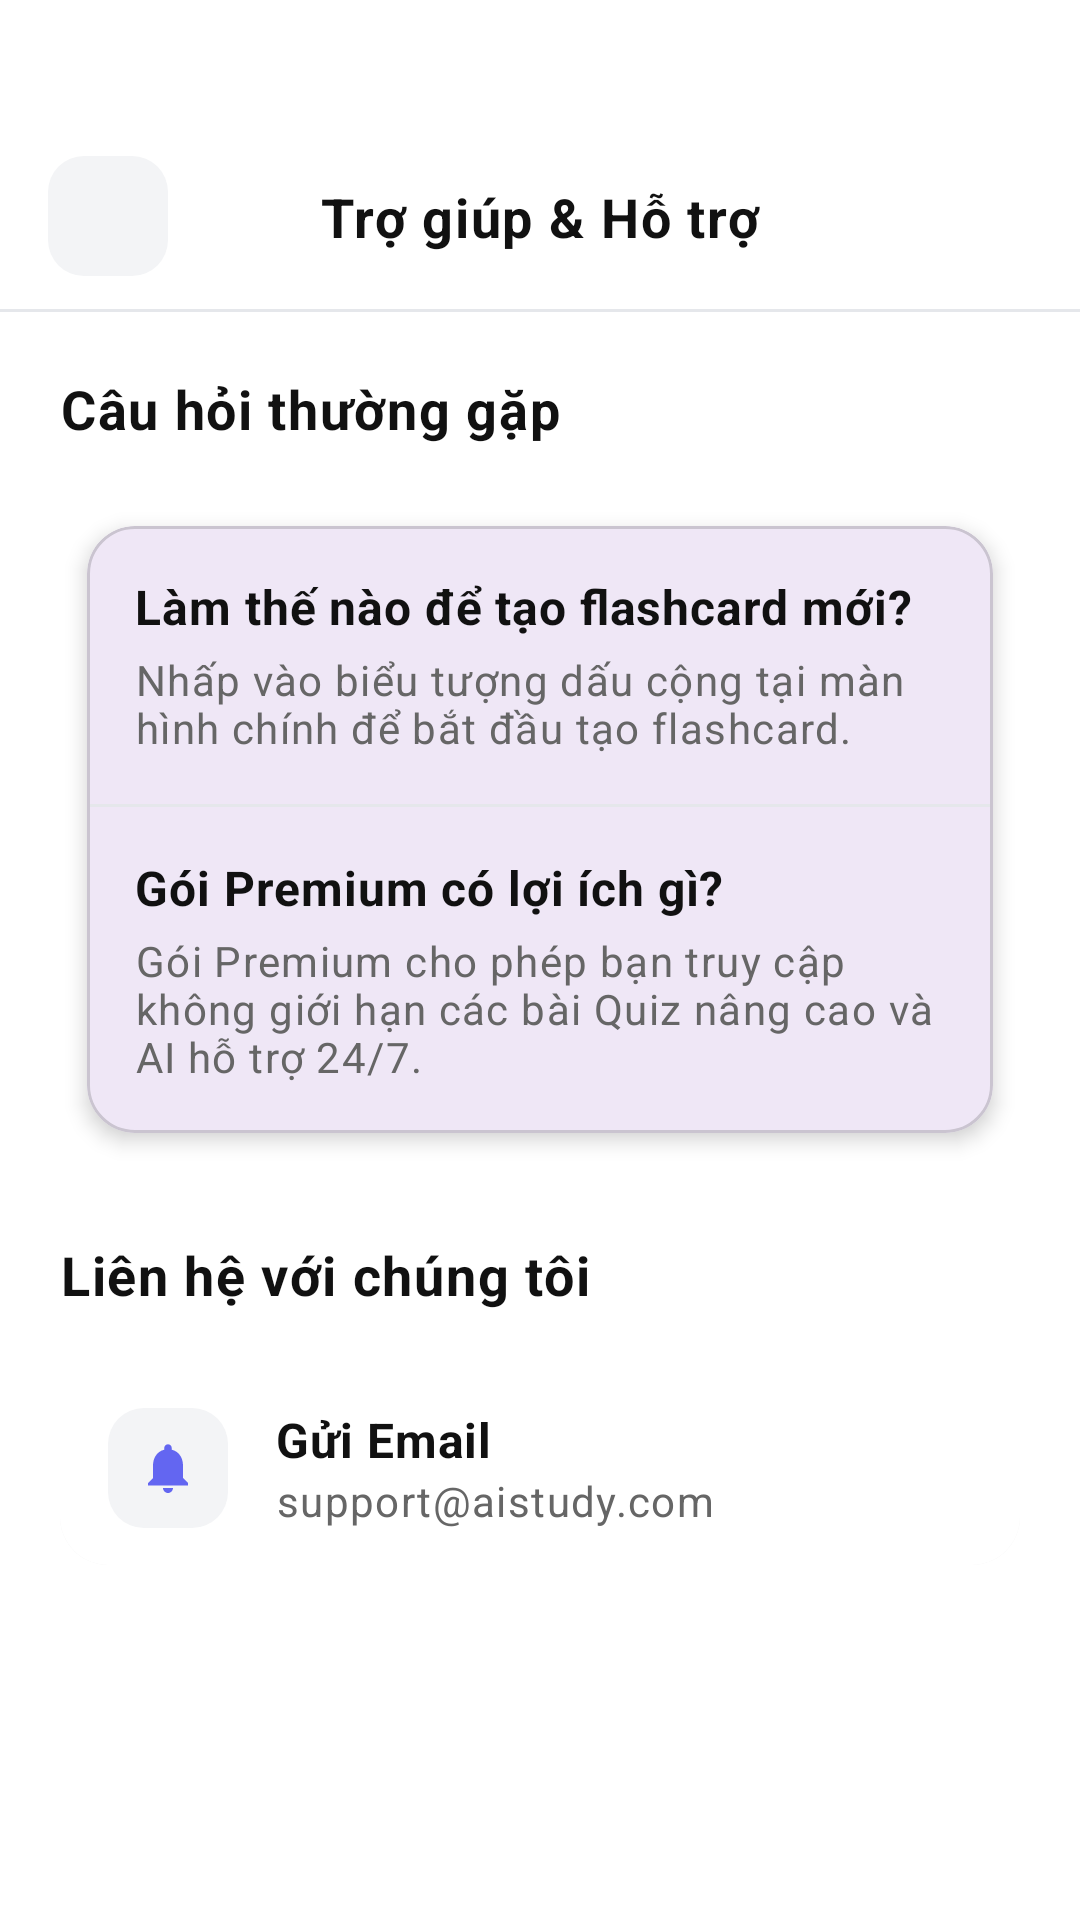

Point at icon controls on the screen. Image size 1080 x 1920, points as [x,y].
bell: [168,1468]
